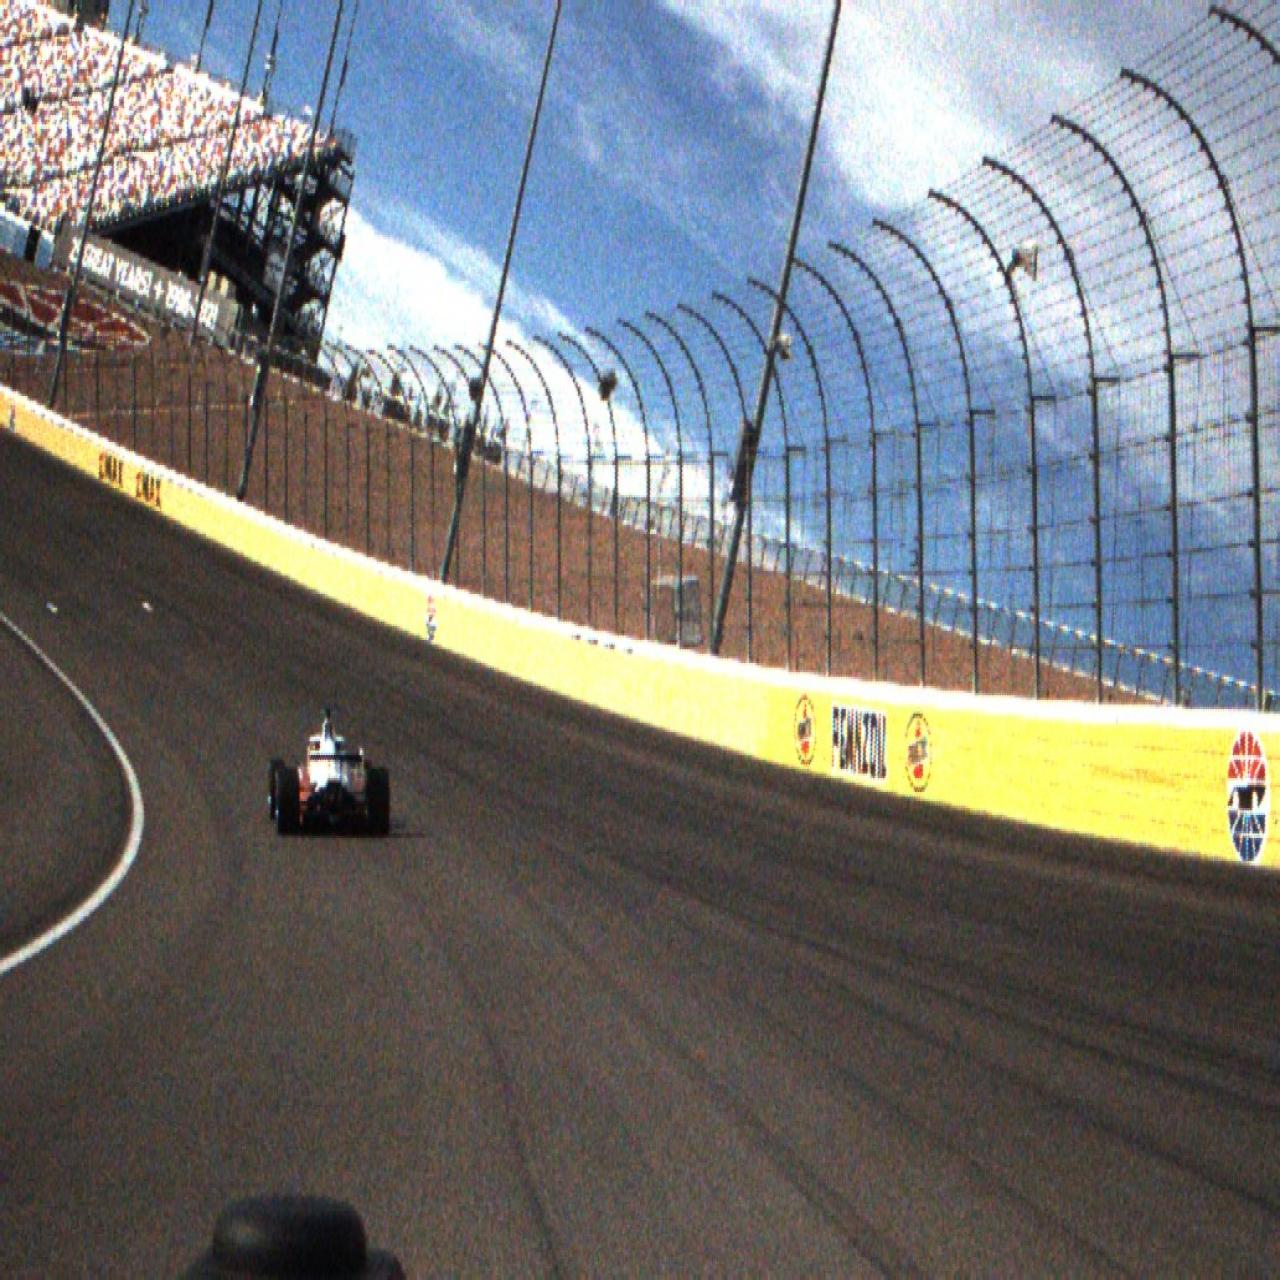AV: (268, 703, 390, 837)
Wheel: (277, 768, 300, 836), (370, 767, 390, 836), (268, 758, 286, 822)
